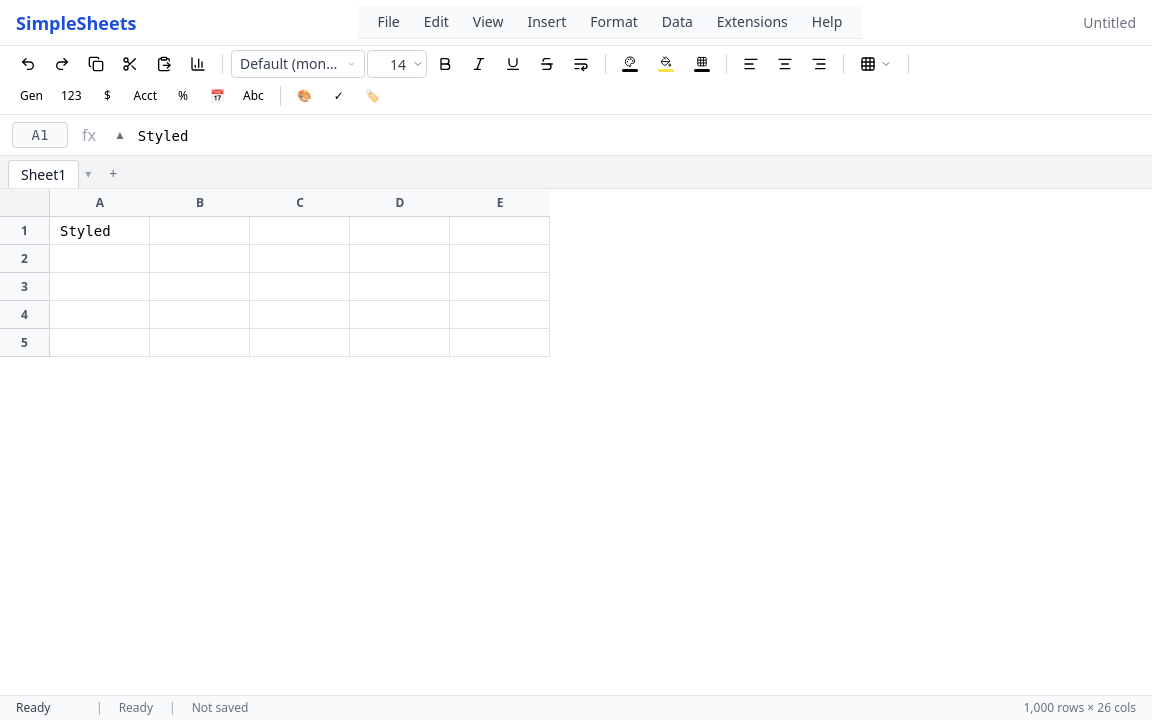
Test: App — Paste with Styles (Integration) › pastes single styled cell to single destination
The width and height of the screenshot is (1152, 720).
Press the mouse on the element with class "grid-cell" showing "Styled": (100, 231) [50,217,150,245]
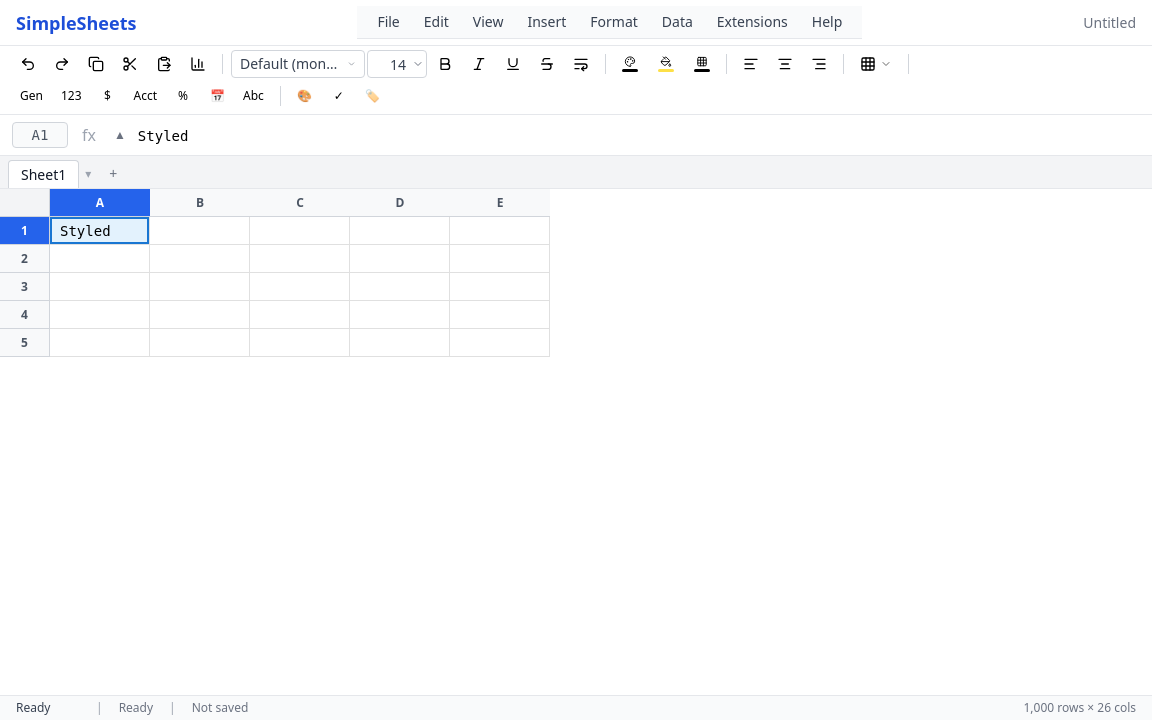
Replace the text in the field with placeholder "Enter a value or formula (e.g., =SUM(A1:A10))" with "Source": (639, 136) [138,126,1140,146]
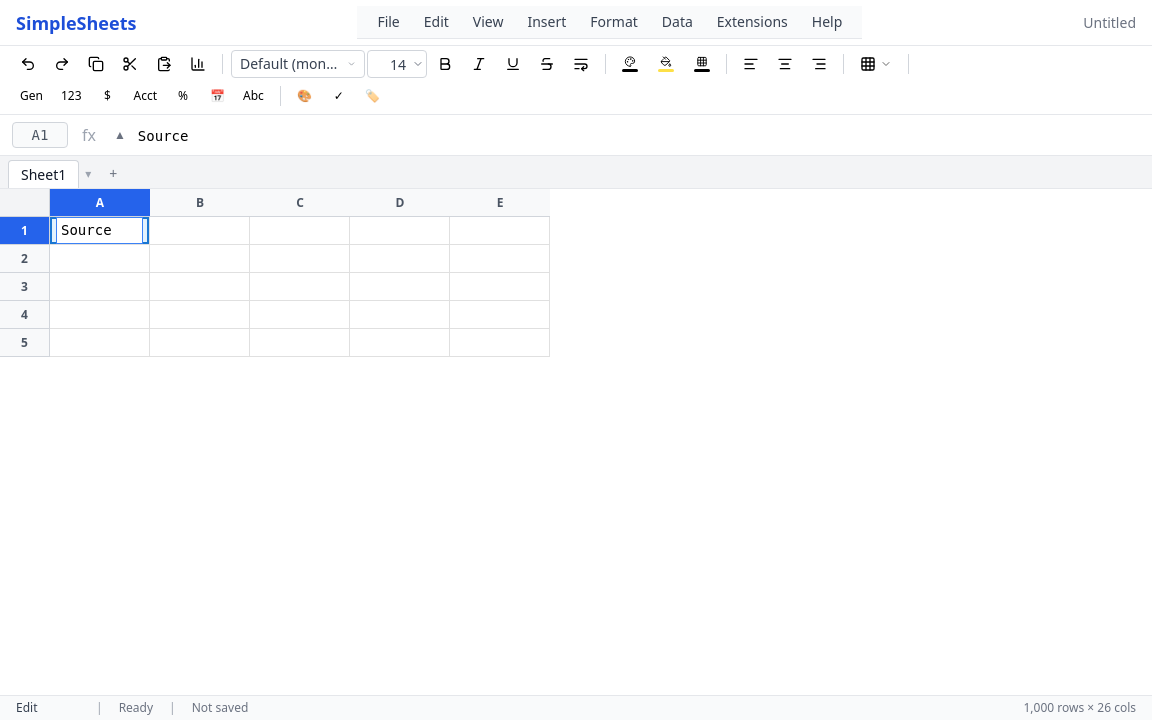
Press Enter in the 1st field with placeholder "Enter a value or formula (e.g., =SUM(A1:A10))", box [138,126,1140,146]
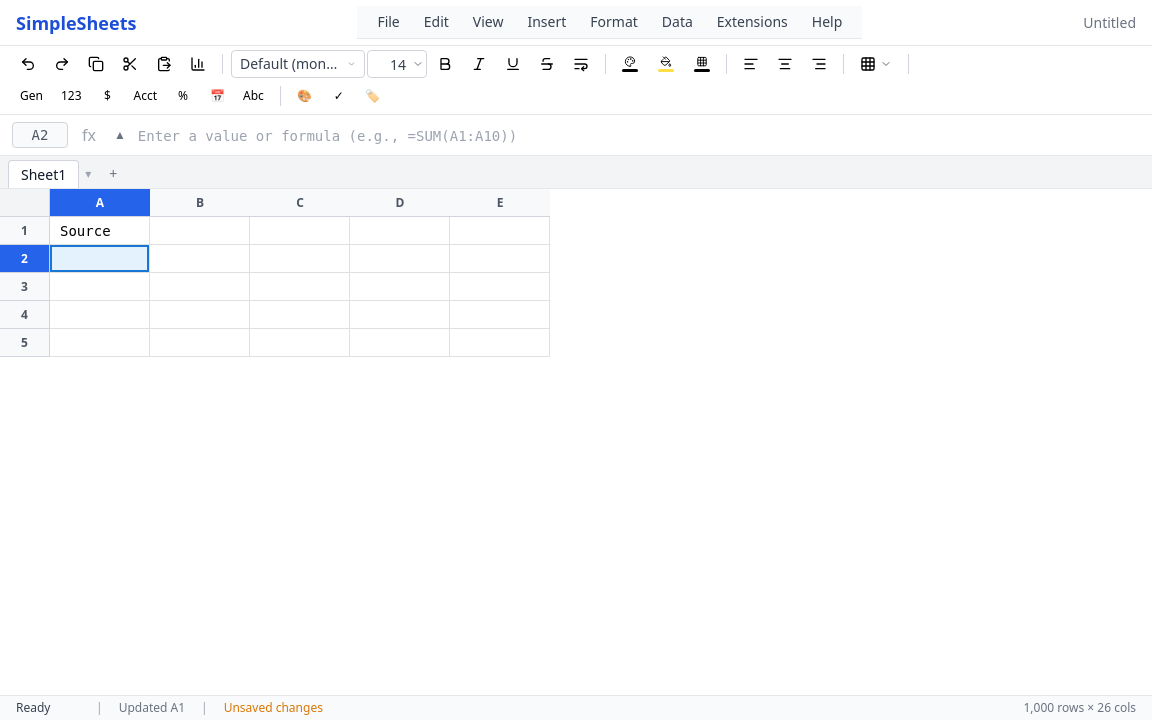
Click the button "Format": click(614, 22) [578,8,650,36]
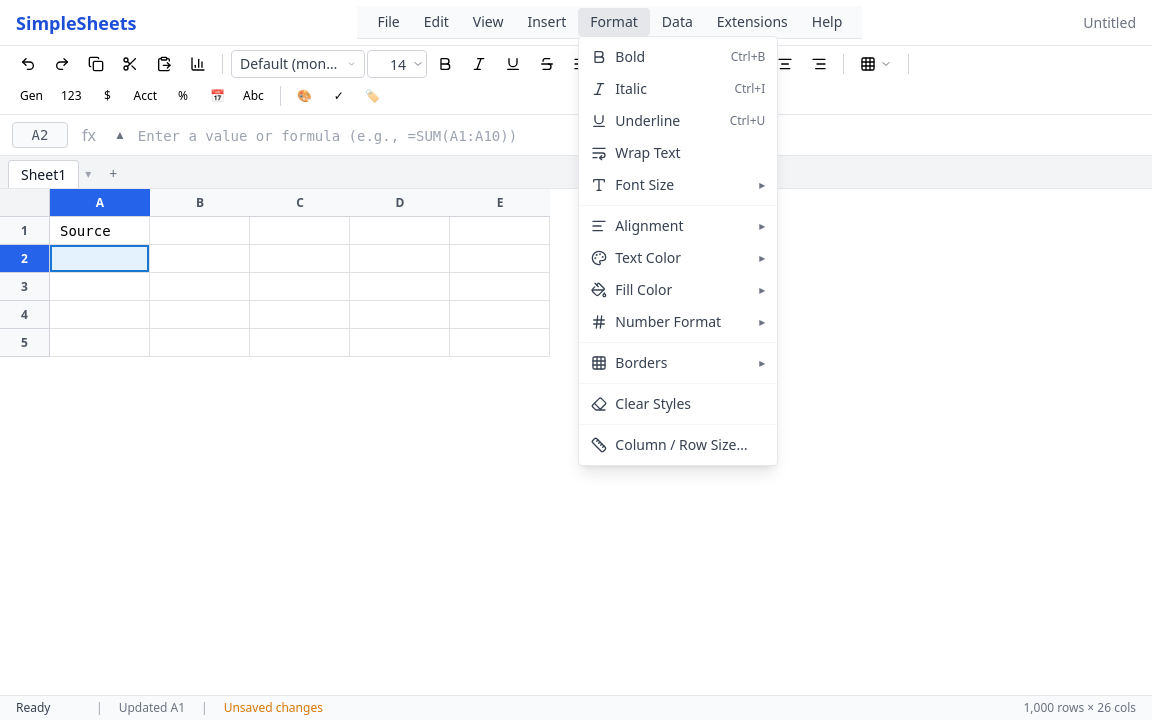
Click the text "Bold": click(630, 56) [615,47,645,66]
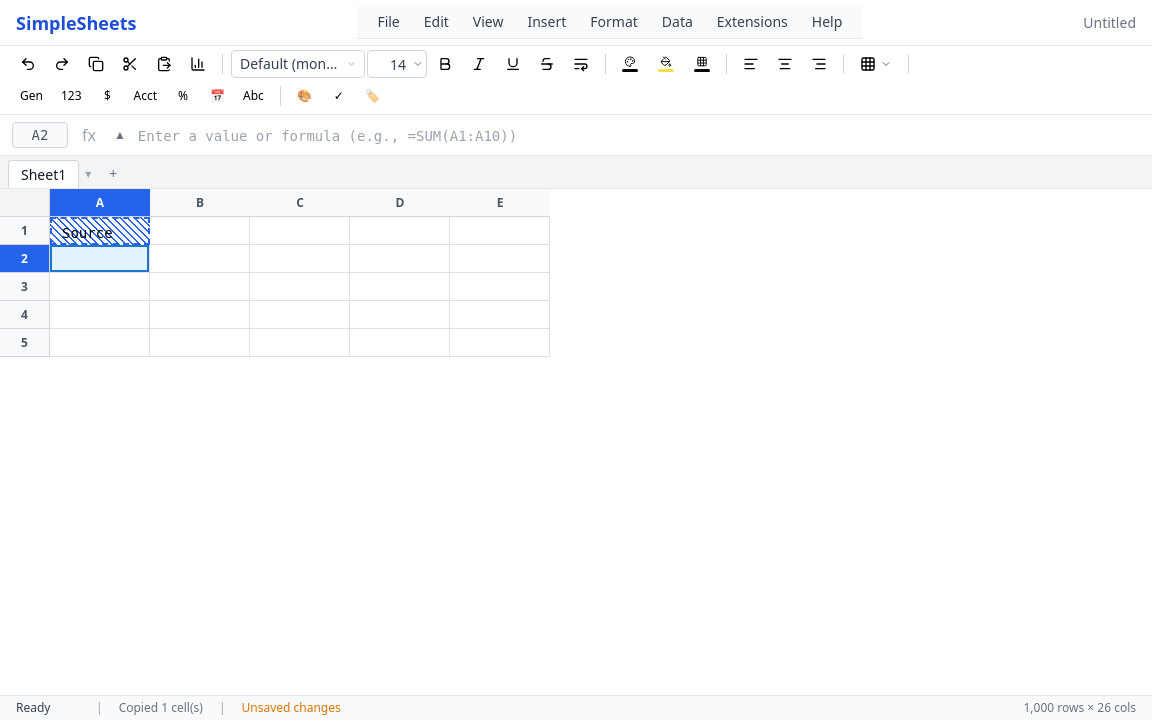
Press the mouse on the 2nd element with class "grid-cell": (200, 231) [150,217,250,245]
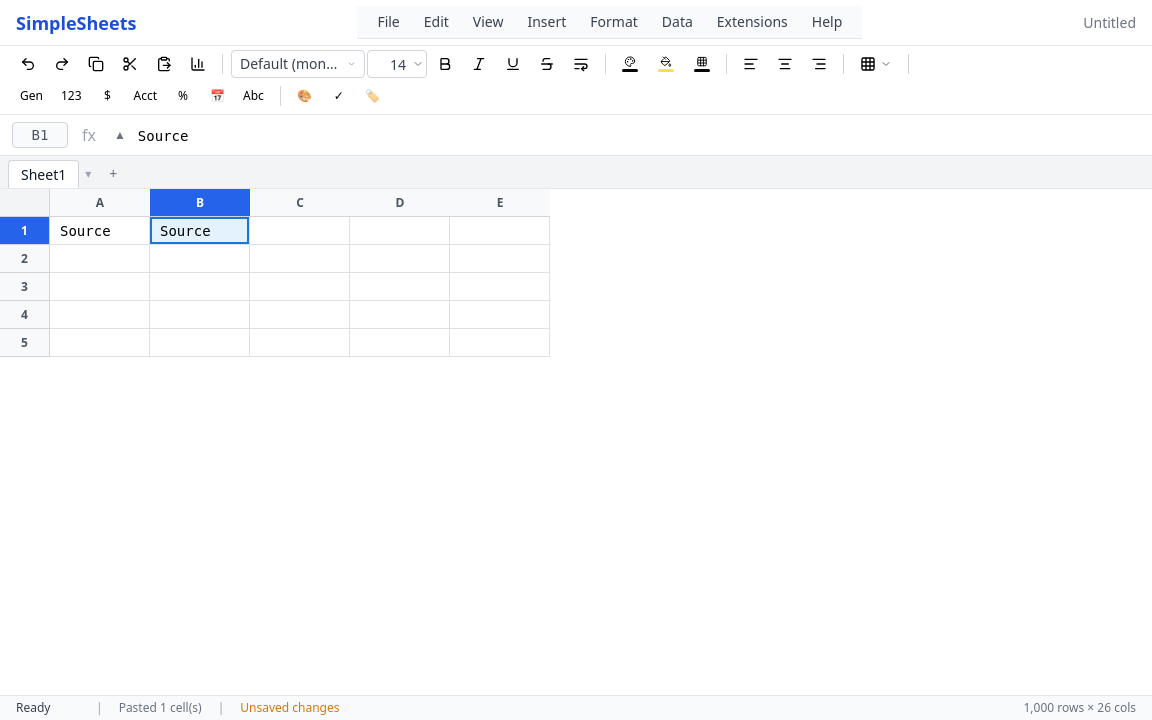
Expected: the text "Pasted 1 cell(s)" is shown, [119,700,202,716]
